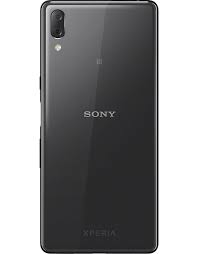sony: (38, 1, 158, 252)
